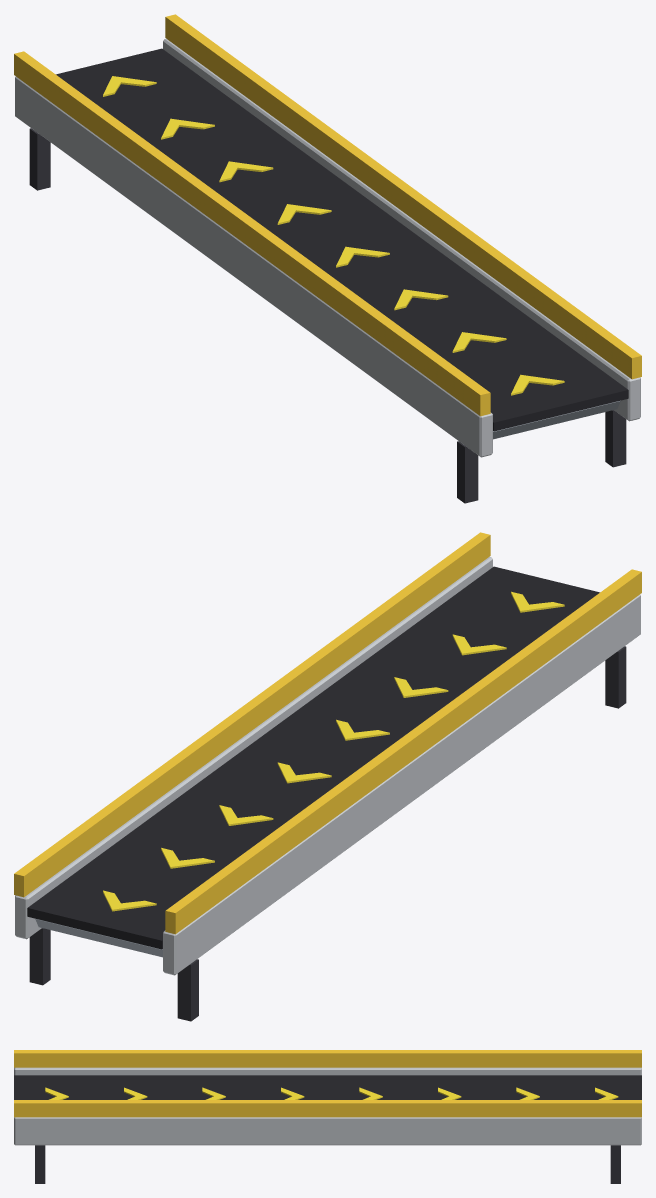
Rendered from LongConveyor.fbx.
3 views of the same model, one above another, from view 1: azimuth 30°, elevation 25°; view 2: azimuth 150°, elevation 25°; view 3: azimuth 270°, elevation 25° (orthographic). The views are drawn at different scales.
Parts seen in each view (by area): view 1: LongConveyor, LongConveyor_Belt; view 2: LongConveyor, LongConveyor_Belt; view 3: LongConveyor, LongConveyor_Belt.
Part boxes in pixels (box(x1,y1,x2,y2)): LongConveyor: box(14, 14, 641, 503); LongConveyor_Belt: box(56, 48, 628, 431); LongConveyor: box(14, 532, 641, 1021); LongConveyor_Belt: box(27, 566, 599, 949); LongConveyor: box(14, 1050, 641, 1183); LongConveyor_Belt: box(14, 1075, 641, 1099).
Size of the model in its own units: 4.8 by 3.4 by 24.
Materials: 1 (1 with a texture image).
